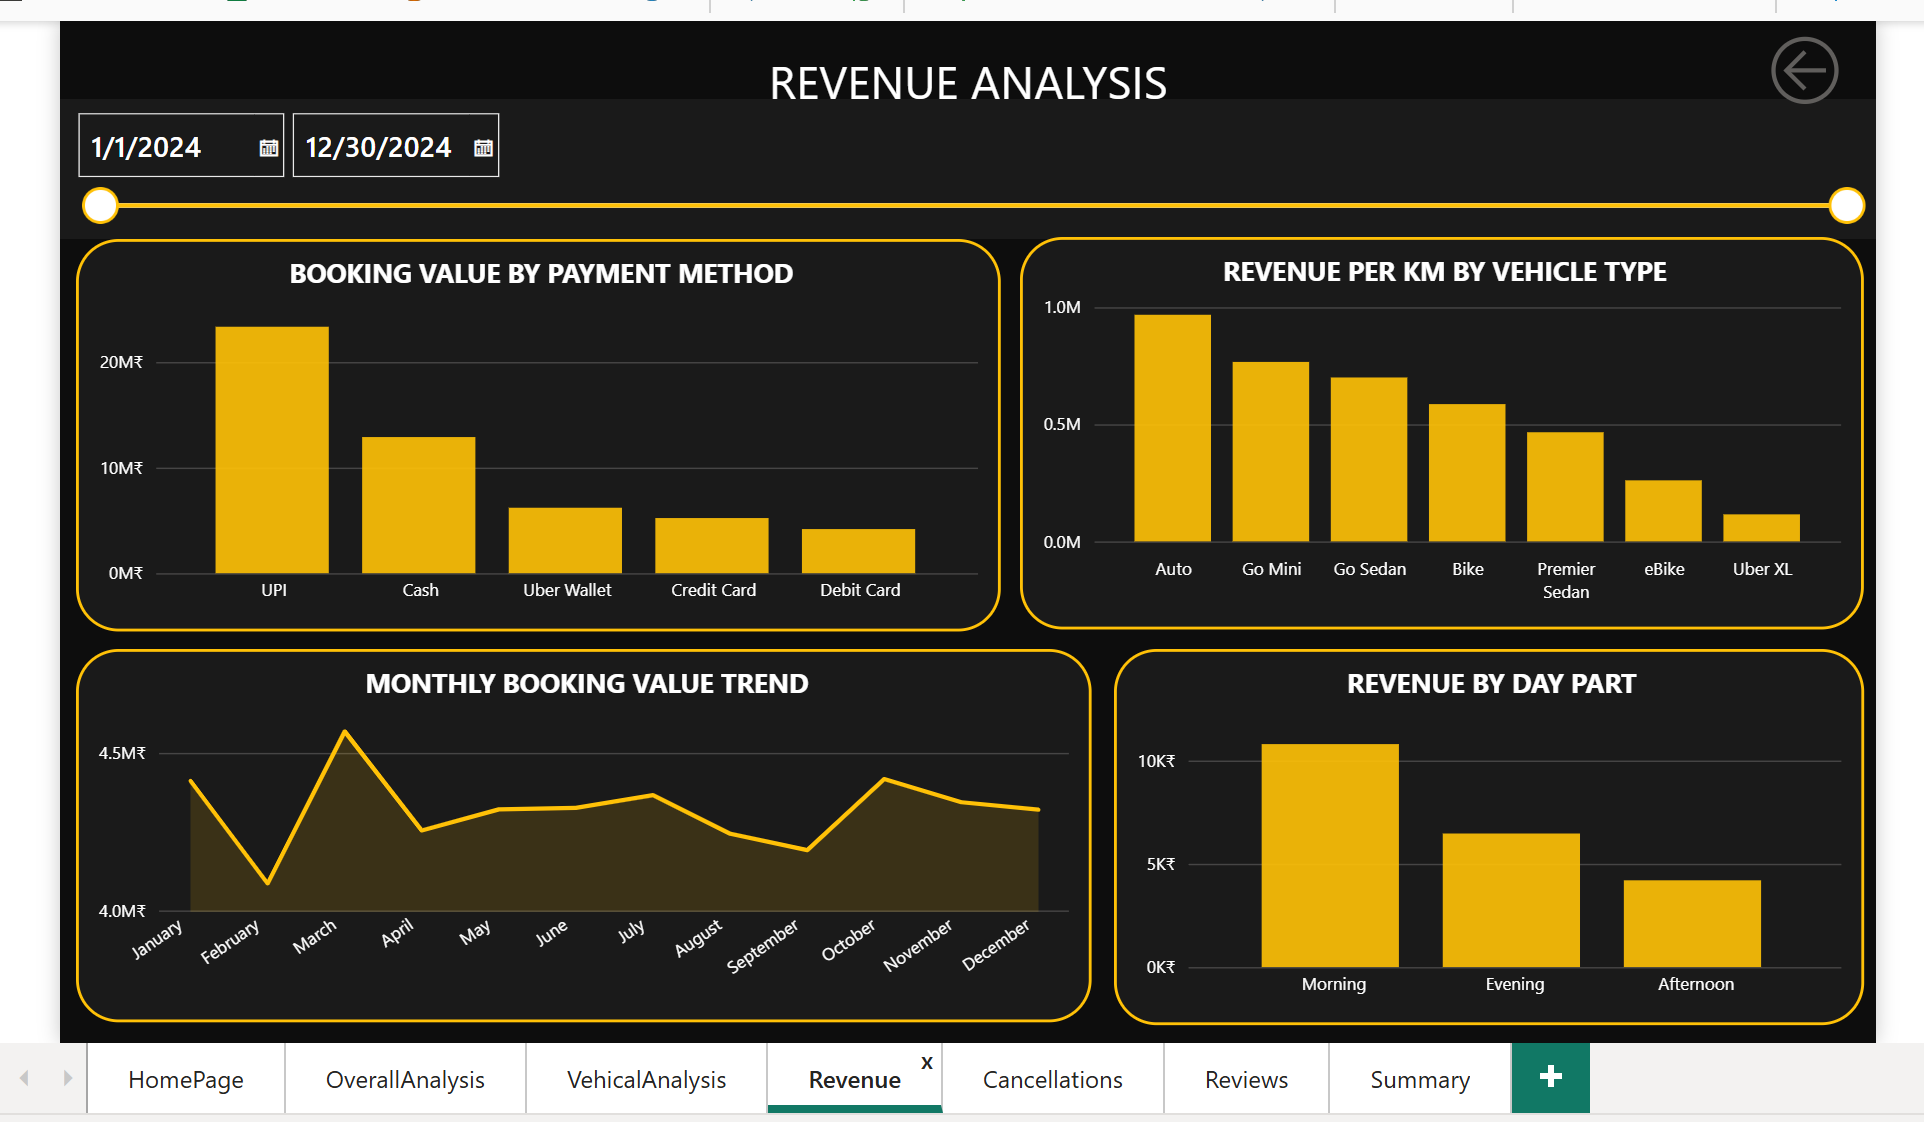

The dashboard page shown, as its layout file describes it:
{"tool":"powerbi","page":{"name":"Revenue","canvas":[1280,720],"ordinal":3},"visuals":[{"type":"lineChart","title":"MONTHLY BOOKING VALUE TREND","fields":{"Category":["rideBookings.Date.Variation.Date Hierarchy.Month"],"Y":["Sum(rideBookings.Booking Value)"]},"box":[11.4,443.1,715.7,263.2],"z":0},{"type":"columnChart","title":"BOOKING VALUE BY PAYMENT METHOD","fields":{"Category":["rideBookings.Payment Method"],"Y":["Sum(rideBookings.Booking Value)"]},"box":[11.4,153.4,651.4,276.4],"z":1000},{"type":"slicer","fields":{"Values":["rideBookings.Date"]},"box":[0,54.9,1280,98.5],"z":2000},{"type":"columnChart","title":"REVENUE BY DAY PART","fields":{"Category":["rideBookings.DayPart"],"Y":["Sum(rideBookings.Booking Value)"]},"box":[742.2,443.1,528.3,265.1],"z":3000},{"type":"clusteredColumnChart","title":"REVENUE PER KM BY VEHICLE TYPE","fields":{"Category":["rideBookings.Vehicle Type"],"Y":["Sum(rideBookings.RevenuePerKM)"]},"box":[676,151.5,594.6,276.4],"z":4000},{"type":"actionButton","box":[1198.6,0,60.6,70.1],"z":5000},{"type":"textbox","box":[0,15.1,1280,90.9],"z":5501}]}

Visuals, with their boxes in screenshot pixels (x1, y1, x2, y2):
"MONTHLY BOOKING VALUE TREND" lineChart: bbox=(61, 644, 1085, 1020)
"BOOKING VALUE BY PAYMENT METHOD" columnChart: bbox=(61, 229, 993, 625)
slicer - rideBookings.Date: bbox=(45, 89, 1875, 229)
"REVENUE BY DAY PART" columnChart: bbox=(1106, 644, 1862, 1023)
"REVENUE PER KM BY VEHICLE TYPE" clusteredColumnChart: bbox=(1012, 227, 1862, 622)
actionButton: bbox=(1759, 10, 1845, 110)
textbox: bbox=(45, 32, 1875, 162)
